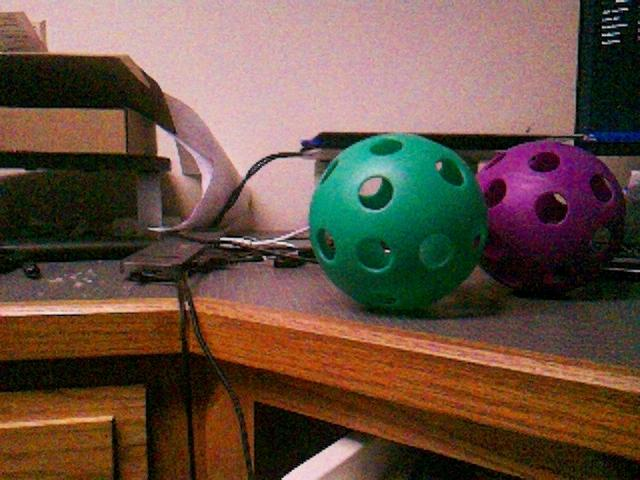Green: (308, 134, 485, 311)
Purple: (472, 139, 627, 296)
